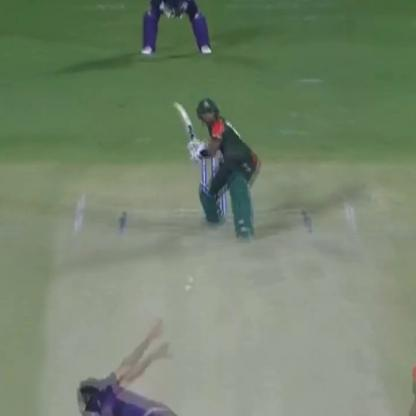ball: (14, 178, 415, 416), (181, 272, 201, 285), (181, 288, 191, 294)
bat: (159, 87, 213, 167)
